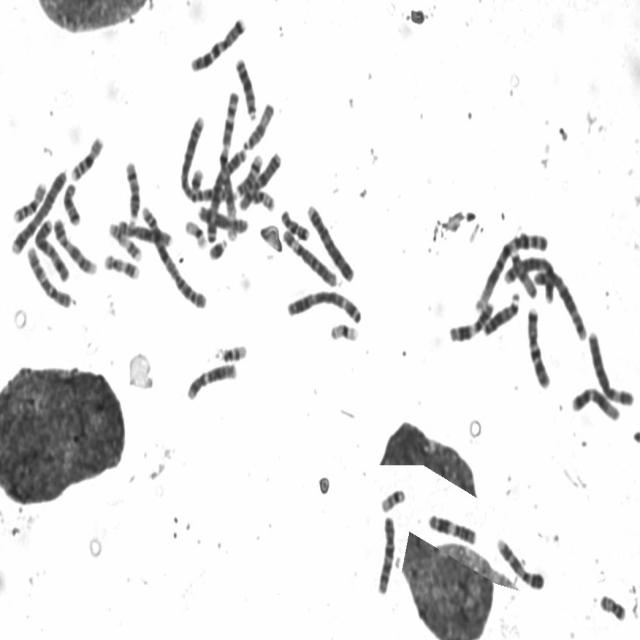A1: (471, 224, 550, 314), (203, 85, 240, 248)
A2: (138, 199, 208, 311), (177, 109, 242, 205)
A3: (204, 144, 248, 245), (282, 284, 363, 326)
B4: (9, 164, 69, 255), (304, 199, 356, 283)
B5: (531, 264, 588, 342), (504, 250, 557, 304)
C10: (24, 240, 76, 310), (374, 509, 397, 597)
C11: (446, 296, 496, 344), (425, 508, 479, 546)
C12: (184, 357, 238, 402), (569, 382, 621, 423)
C6: (586, 326, 635, 408), (280, 223, 339, 288)
C7: (188, 11, 248, 73), (524, 302, 552, 391)
C8: (111, 215, 173, 248), (194, 200, 251, 233)
C9: (493, 532, 547, 592), (49, 213, 98, 277)
D13: (480, 286, 520, 337), (233, 52, 259, 120)
D14: (233, 149, 264, 200), (122, 156, 142, 223)
D15: (240, 96, 276, 152), (507, 246, 539, 300)
E16: (68, 130, 105, 182), (10, 176, 48, 224)
E17: (106, 216, 144, 263), (101, 248, 142, 282)
E18: (278, 204, 312, 242), (60, 178, 83, 226)
F19: (182, 214, 208, 250), (327, 316, 360, 343)
F20: (596, 588, 628, 622), (251, 190, 276, 214)
G21: (206, 234, 229, 261), (187, 163, 205, 192)
G22: (215, 338, 249, 364), (378, 484, 407, 514)
X: (31, 213, 71, 284), (234, 146, 283, 202)
